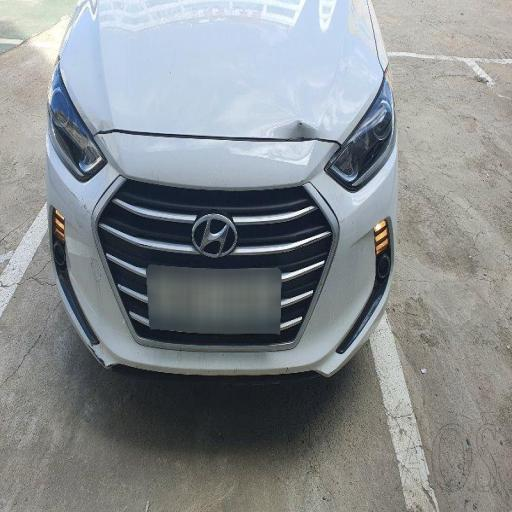broken: (250, 86, 348, 195)
